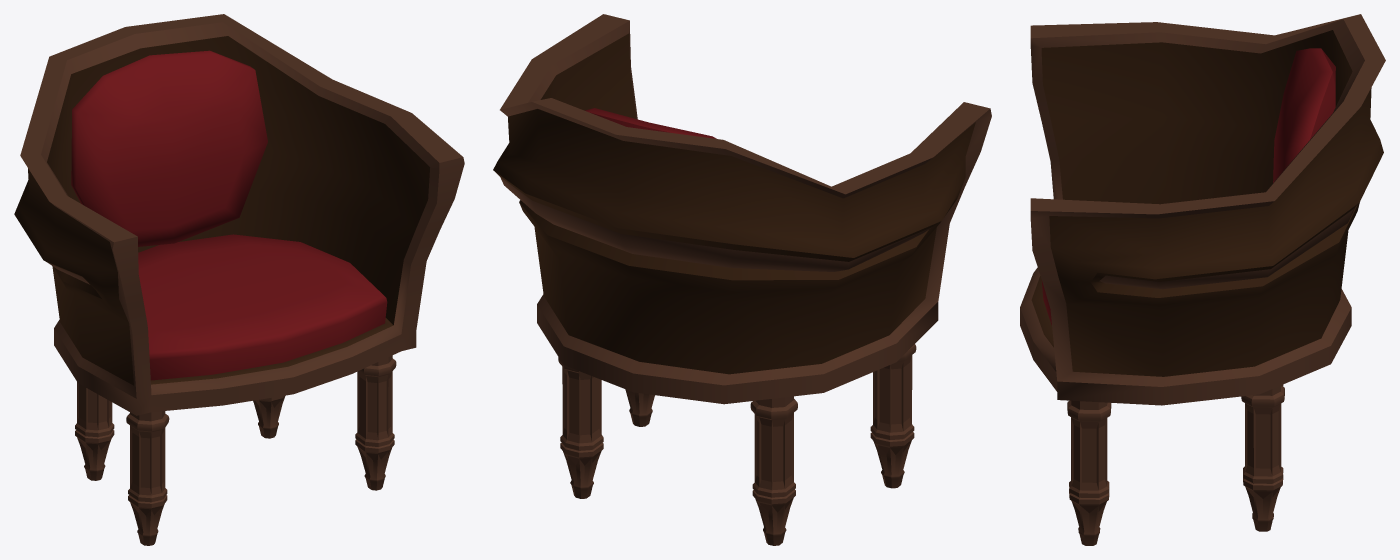
File: LoungeChairUV.fbx
3 renders of one model, left to right at view 1: azimuth 30°, elevation 25°; view 2: azimuth 150°, elevation 25°; view 3: azimuth 270°, elevation 25°, orthographic. The views are drawn at different scales.
Visible parts, largest first — view 1: couches:loungechair1; view 2: couches:loungechair1; view 3: couches:loungechair1.
Boxes of the visible parts, x1,y1,x2,y2 form: couches:loungechair1: (14,14,464,545); couches:loungechair1: (493,14,991,545); couches:loungechair1: (1020,14,1385,545).
Size of the model in its own units: 115 by 114 by 89.35.
